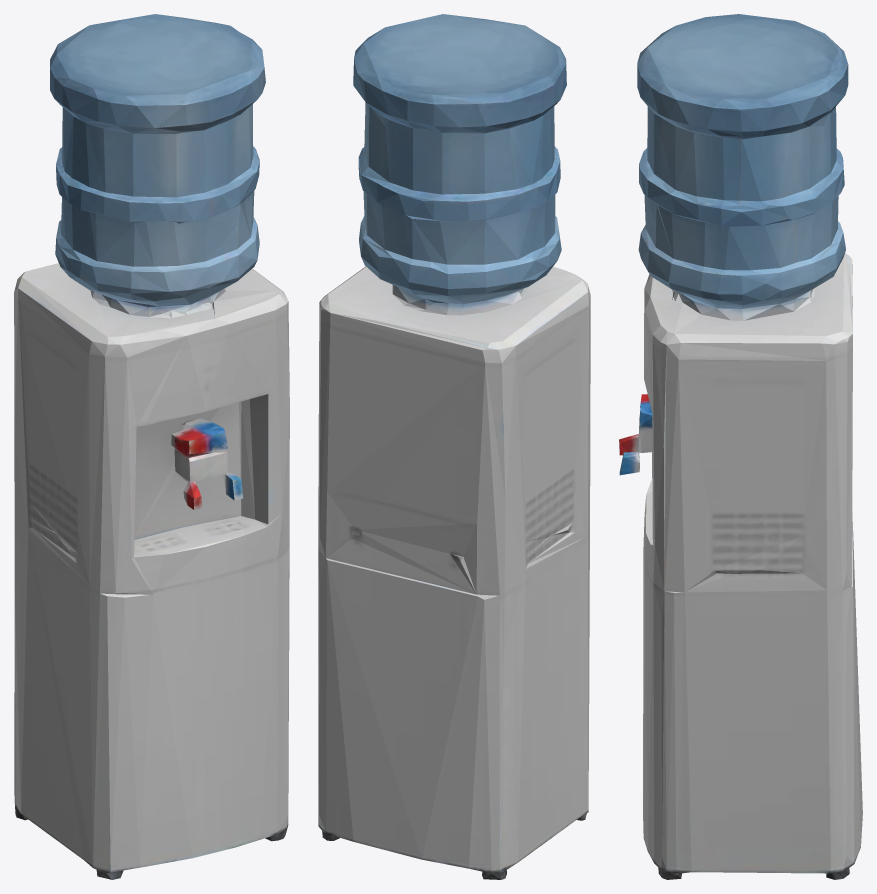
File: hf_cooler.glb
3 renders of one model, left to right at view 1: azimuth 30°, elevation 25°; view 2: azimuth 150°, elevation 25°; view 3: azimuth 270°, elevation 25°, orthographic.
Parts seen in each view (by area): view 1: geometry_0; view 2: geometry_0; view 3: geometry_0.
Boxes of the visible parts, bbox=[...] form: geometry_0: bbox=[14, 14, 289, 879]; geometry_0: bbox=[318, 14, 590, 879]; geometry_0: bbox=[619, 14, 862, 879].
Bounding box in the file's own units: 0.2674 × 1 × 0.2838.
1 material, 1 textured.
